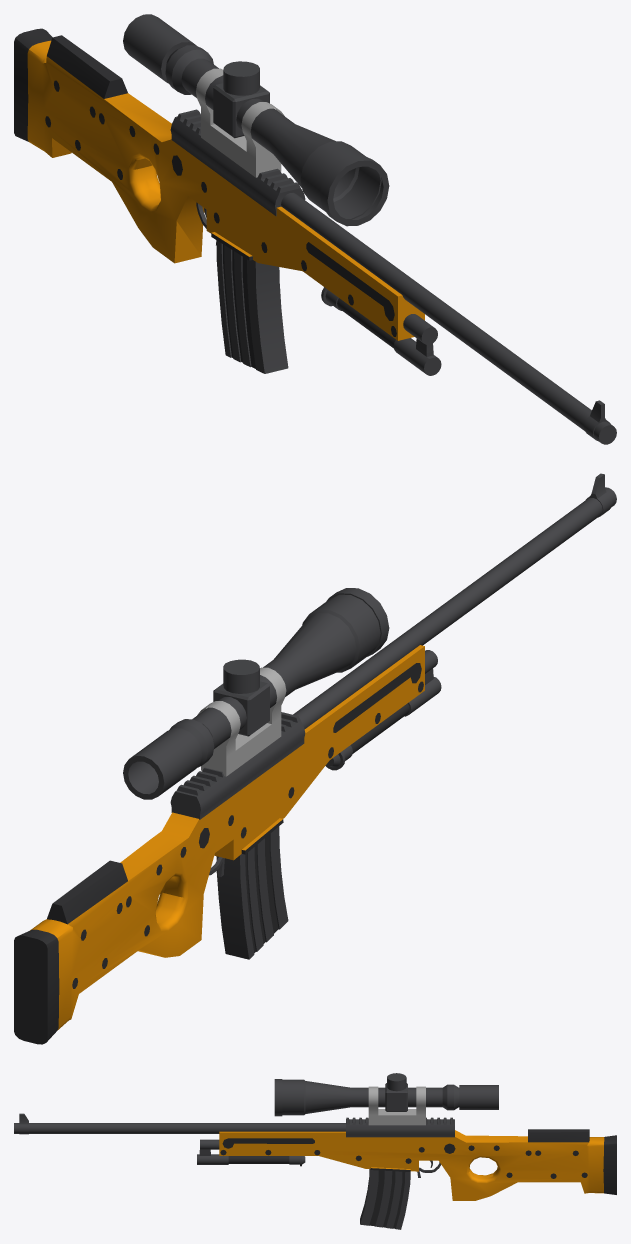
Rendered from Gun02.fbx.
3 renders of one model, top to bottom at view 1: azimuth 30°, elevation 25°; view 2: azimuth 150°, elevation 25°; view 3: azimuth 270°, elevation 25°, orthographic. The views are drawn at different scales.
Parts seen in each view (by area): view 1: Gun_03, Gun_02, Gun_01, Gun_04; view 2: Gun_03, Gun_02, Gun_01, Gun_04; view 3: Gun_03, Gun_02, Gun_01, Gun_04.
Part boxes in pixels (x1,y1,x2,y2): Gun_03: (123, 14, 616, 444); Gun_02: (27, 40, 424, 340); Gun_01: (14, 28, 396, 368); Gun_04: (196, 68, 284, 177); Gun_03: (123, 473, 616, 959); Gun_02: (30, 645, 424, 1030); Gun_01: (14, 663, 423, 1044); Gun_04: (197, 667, 286, 776); Gun_03: (14, 1073, 498, 1229); Gun_02: (219, 1130, 604, 1200); Gun_01: (220, 1129, 616, 1228); Gun_04: (368, 1086, 425, 1125).
Bounding box in the file's own units: 13.94 × 61.65 × 225.
